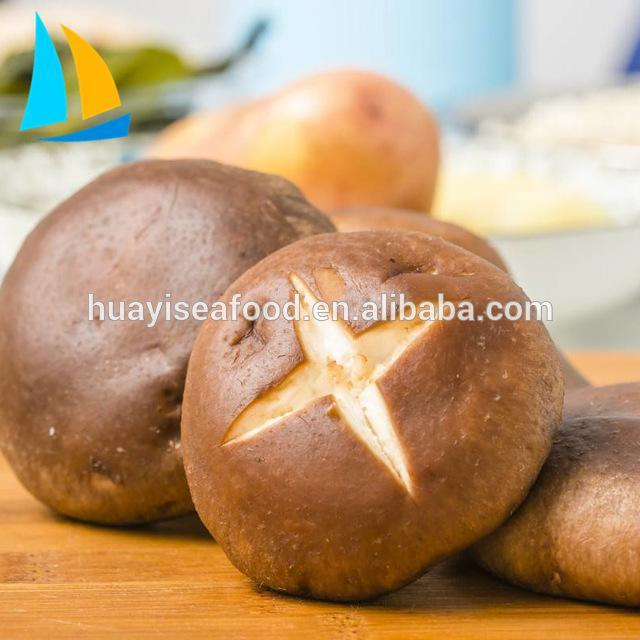Lentinus edodes: (179, 231, 565, 600), (0, 160, 336, 524)
